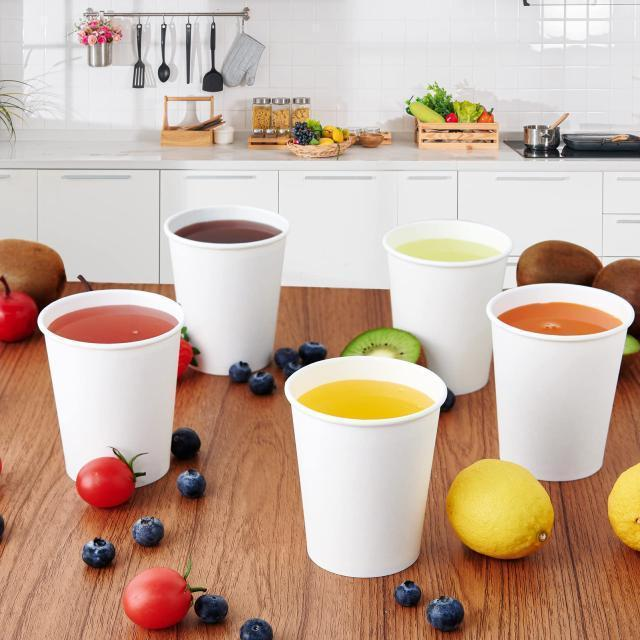Cup: (284, 352, 450, 580), (36, 286, 186, 489), (485, 282, 635, 482), (382, 218, 514, 398), (162, 202, 290, 377)
